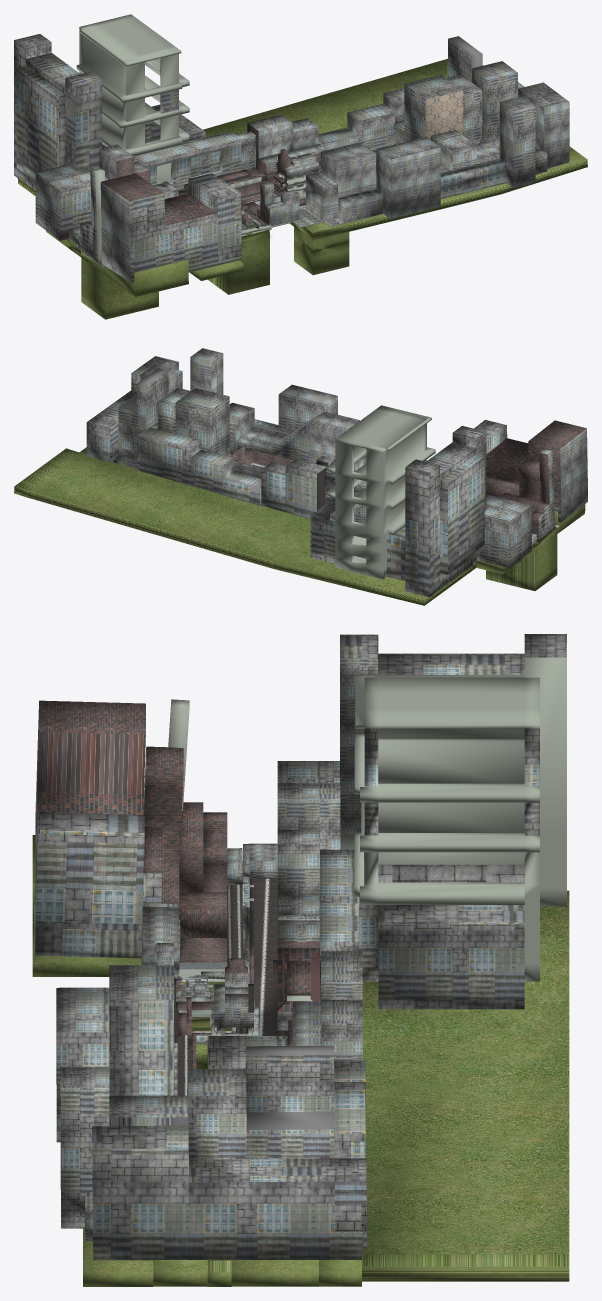
File: decor5.obj
The picture shows the model from 3 angles, top to bottom: view 1: azimuth 30°, elevation 25°; view 2: azimuth 150°, elevation 25°; view 3: azimuth 270°, elevation 25°; orthographic projection. The views are drawn at different scales.
Parts seen in each view (by area): view 1: decor.002_Cube.009, decor2.002_Plane.002; view 2: decor.002_Cube.009, decor2.002_Plane.002; view 3: decor.002_Cube.009, decor2.002_Plane.002.
Boxes of the visible parts, x1,y1,x2,y2 form: decor.002_Cube.009: (14, 14, 569, 282); decor2.002_Plane.002: (17, 58, 587, 319); decor.002_Cube.009: (86, 348, 587, 597); decor2.002_Plane.002: (14, 447, 585, 605); decor.002_Cube.009: (34, 634, 566, 1260); decor2.002_Plane.002: (32, 835, 569, 1286).
Bounding box in the file's own units: 24454 × 9638 × 12783.
Materials: 6 (6 with a texture image).
